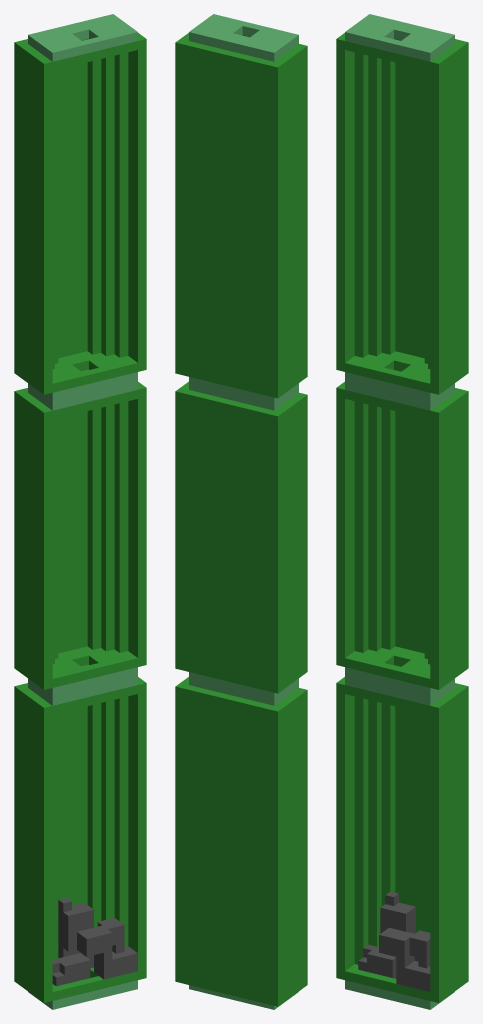
File: bamboo_0,0,3.obj
The picture shows the model from 3 angles, left to right: view 1: azimuth 30°, elevation 25°; view 2: azimuth 150°, elevation 25°; view 3: azimuth 330°, elevation 25°; orthographic projection.
Bounding box in the file's own units: 1.2 × 10.7 × 0.6.
1 material, 1 textured.
